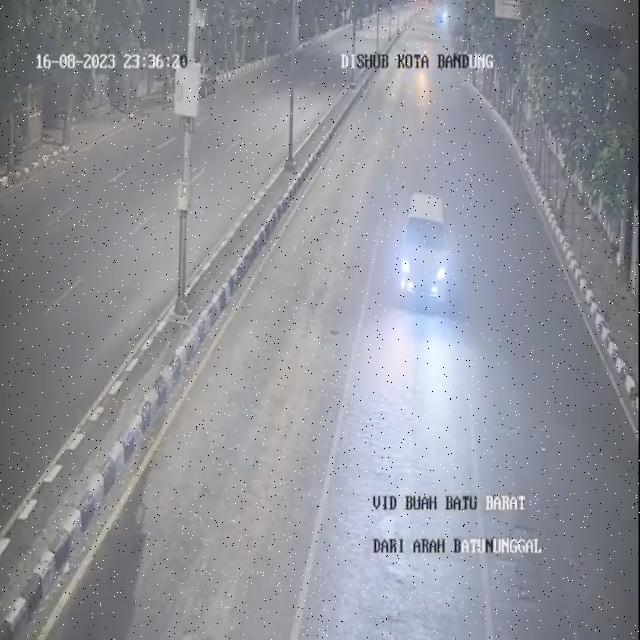cars: (395, 187, 454, 321)
